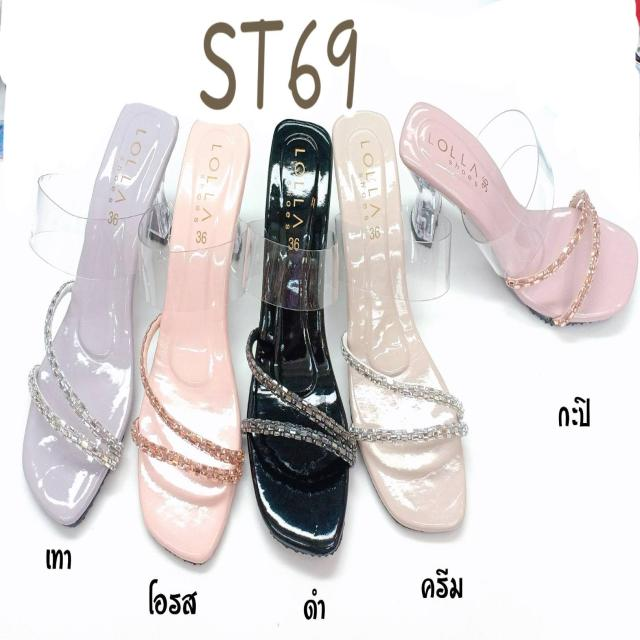black: (245, 118, 353, 544)
cream: (335, 113, 464, 534)
grey: (27, 102, 172, 525)
kapi: (404, 102, 632, 321)
orot: (142, 116, 246, 559)
